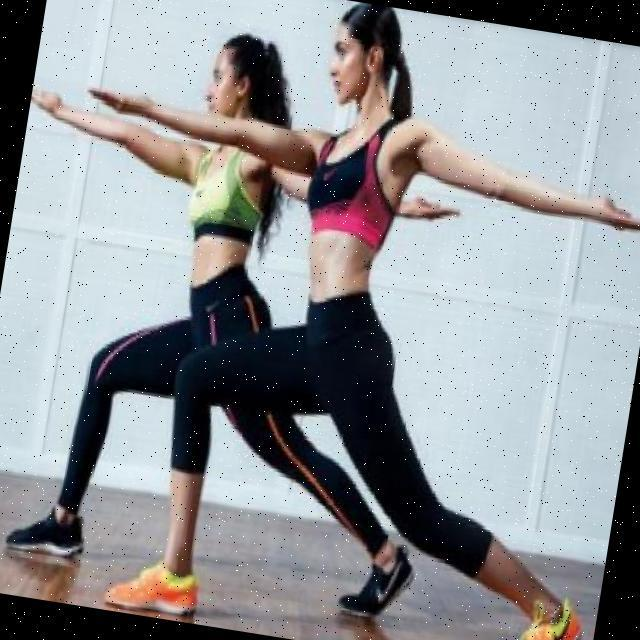Nike: (370, 552, 403, 603), (547, 603, 572, 640)
